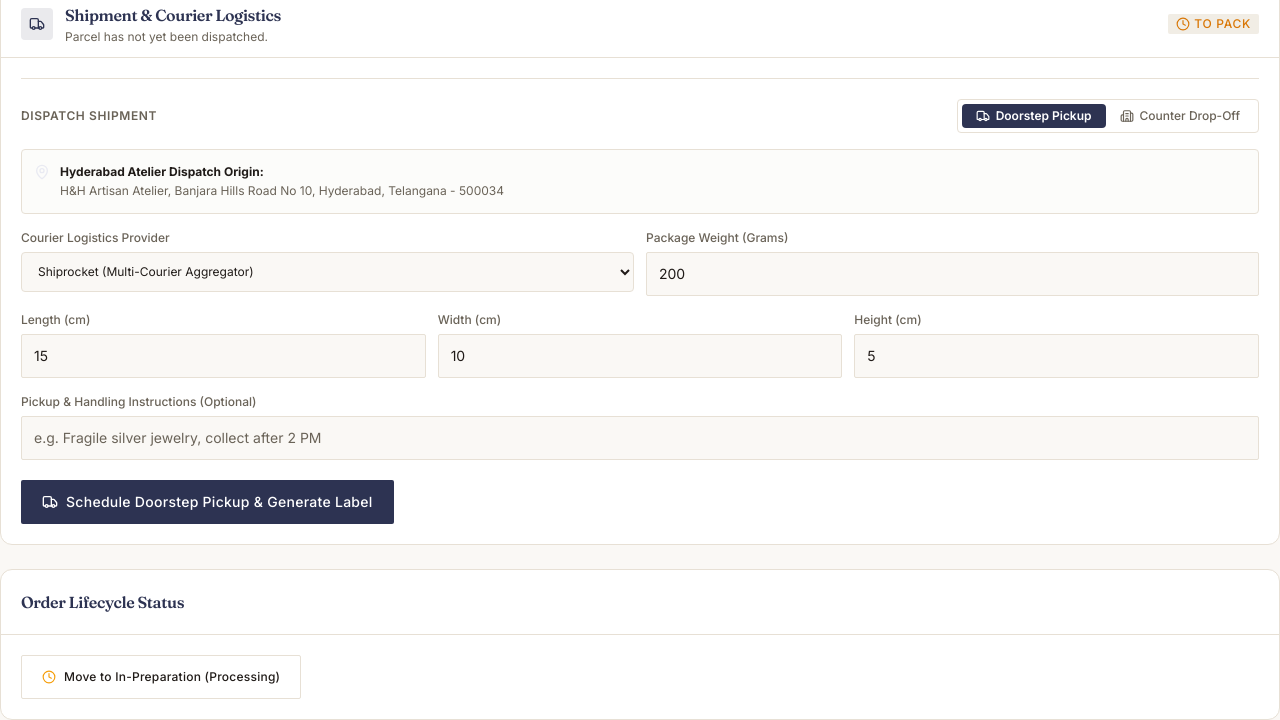
Test: OrderFulfillmentActions Component › transitions order status through processing and completion state machine
This screenshot has width=1280, height=720.
(page scrolled)
Click the button "Move to In-Preparation (Processing)".
click(161, 677)  # box [21,655,301,699]
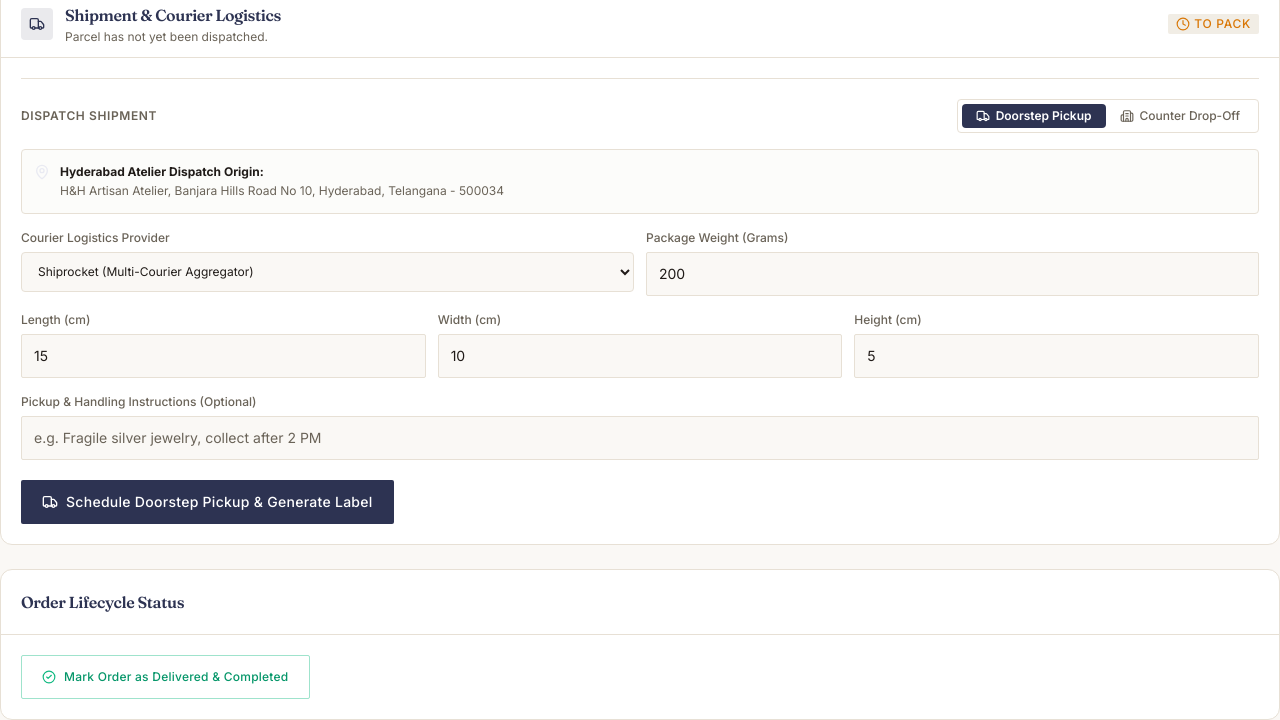
Click the button "Mark Order as Delivered & Completed".
click(165, 677)  # box [21,655,310,699]
(page scrolled)
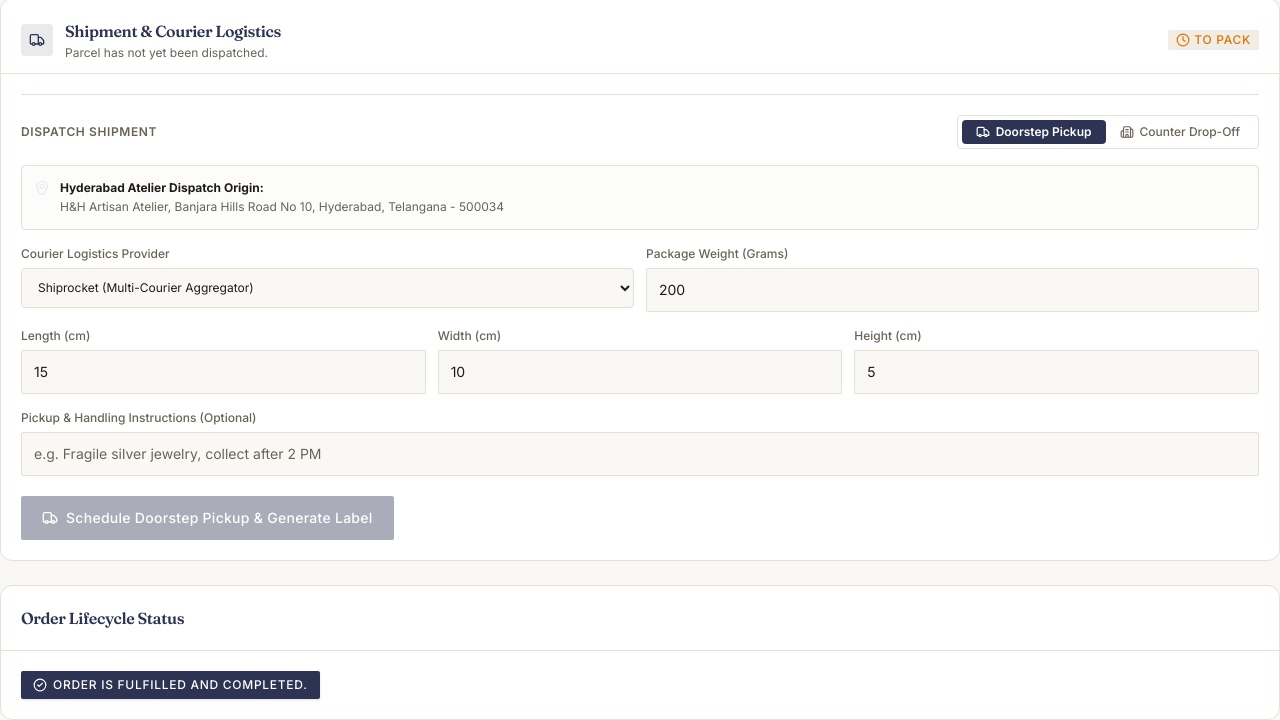
Result: the text "Order is fulfilled and completed." is shown at [53,677,308,693]
